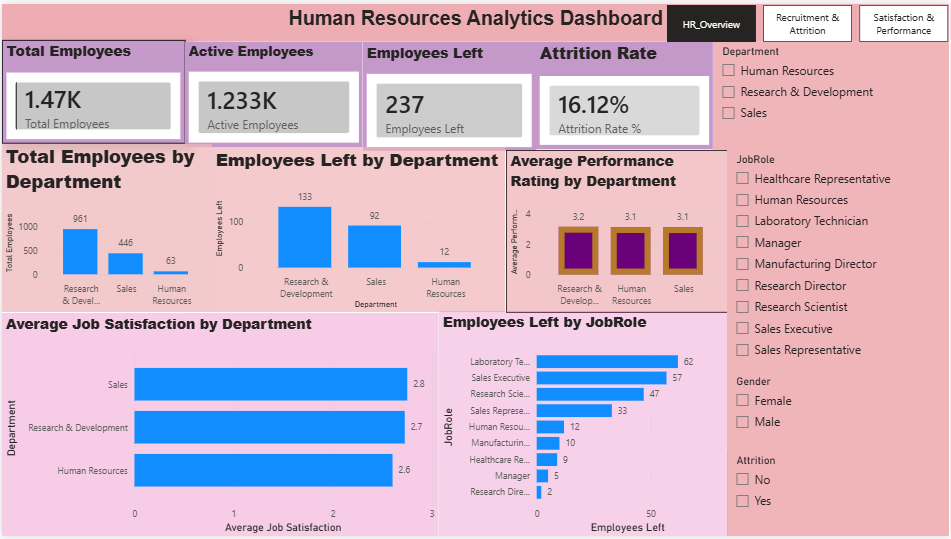

The page's visual inventory and layout, read from the dashboard file:
{"tool":"powerbi","page":{"name":"HR_Overview ","canvas":[1280,720],"ordinal":0},"visuals":[{"type":"textbox","box":[0,0,1280,51.2],"z":0},{"type":"cardVisual","title":"Total Employees","fields":{"Data":["HR_Data.Total Employees"]},"box":[0,48.8,247.5,140],"z":1000},{"type":"cardVisual","title":"Active Employees","fields":{"Data":["HR_Data.Active Employees"]},"box":[247,51.2,240.4,141.9],"z":2000},{"type":"cardVisual","title":"Employees Left ","fields":{"Data":["HR_Data.Employees Left"]},"box":[487.4,51.2,233.9,147.2],"z":3000},{"type":"cardVisual","title":"Attrition Rate ","fields":{"Data":["HR_Data.Attrition Rate %"]},"box":[721.3,51.2,239.1,144.5],"z":4000},{"type":"clusteredColumnChart","fields":{"Category":["HR_Data.Department"],"Y":["HR_Data.Total Employees"]},"box":[0,188.6,283.5,227.1],"z":5000},{"type":"clusteredColumnChart","fields":{"Category":["HR_Data.Department"],"Y":["HR_Data.Employees Left"]},"box":[283.5,192.7,396.4,223],"z":6000},{"type":"slicer","fields":{"Values":["HR_Data.Attrition"]},"box":[980.1,604.4,299.6,115.6],"z":7000},{"type":"clusteredBarChart","fields":{"Category":["HR_Data.Department"],"Y":["HR_Data.Average Job Satisfaction"]},"box":[0,417.8,589.9,302.2],"z":8000},{"type":"clusteredColumnChart","fields":{"Category":["HR_Data.Department"],"Y":["HR_Data.Average Performance Rating"]},"box":[680.6,197.1,302.8,220.2],"z":9000},{"type":"barChart","fields":{"Category":["HR_Data.JobRole"],"Y":["HR_Data.Employees Left"]},"box":[589.9,415.2,390.2,304.8],"z":10000},{"type":"slicer","fields":{"Values":["HR_Data.Department"]},"box":[960.4,51.2,319.3,145.8],"z":11000},{"type":"slicer","fields":{"Values":["HR_Data.JobRole"]},"box":[980.1,197.1,300,300],"z":12000},{"type":"slicer","fields":{"Values":["HR_Data.Gender"]},"box":[980.1,496.6,299.6,107.7],"z":13000},{"type":"pageNavigator","box":[898.6,1.4,381.1,50],"z":13001}]}

Visuals, with their boxes in screenshot pixels (x1, y1, x2, y2), scaled from the page's 1280x720 canvas onto the 951x539 screenshot:
textbox: <bbox>0, 0, 950, 38</bbox>
"Total Employees" cardVisual: <bbox>0, 37, 184, 141</bbox>
"Active Employees" cardVisual: <bbox>184, 38, 362, 145</bbox>
"Employees Left " cardVisual: <bbox>362, 38, 536, 149</bbox>
"Attrition Rate " cardVisual: <bbox>536, 38, 714, 147</bbox>
clusteredColumnChart - HR_Data.Department x HR_Data.Total Employees: <bbox>0, 141, 211, 311</bbox>
clusteredColumnChart - HR_Data.Department x HR_Data.Employees Left: <bbox>211, 144, 505, 311</bbox>
slicer - HR_Data.Attrition: <bbox>728, 452, 950, 538</bbox>
clusteredBarChart - HR_Data.Department x HR_Data.Average Job Satisfaction: <bbox>0, 313, 438, 538</bbox>
clusteredColumnChart - HR_Data.Department x HR_Data.Average Performance Rating: <bbox>506, 148, 731, 312</bbox>
barChart - HR_Data.JobRole x HR_Data.Employees Left: <bbox>438, 311, 728, 538</bbox>
slicer - HR_Data.Department: <bbox>714, 38, 950, 147</bbox>
slicer - HR_Data.JobRole: <bbox>728, 148, 950, 372</bbox>
slicer - HR_Data.Gender: <bbox>728, 372, 950, 452</bbox>
pageNavigator: <bbox>668, 1, 950, 38</bbox>
